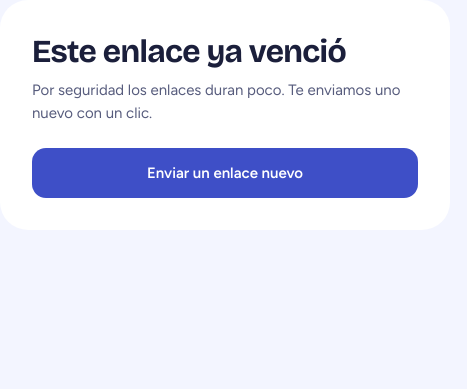
Test: LinkGate › renews an expired link with one click
This screenshot has width=467, height=389.
Expected: the heading "Este enlace ya venció" is shown, [32,32,346,71]
Click the button "Enviar un enlace nuevo". click: (225, 173)
box: [32,148,418,198]
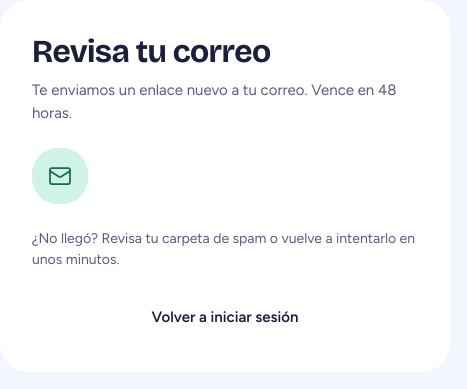
Expected: the heading "Revisa tu correo" is shown, [32,32,271,71]
